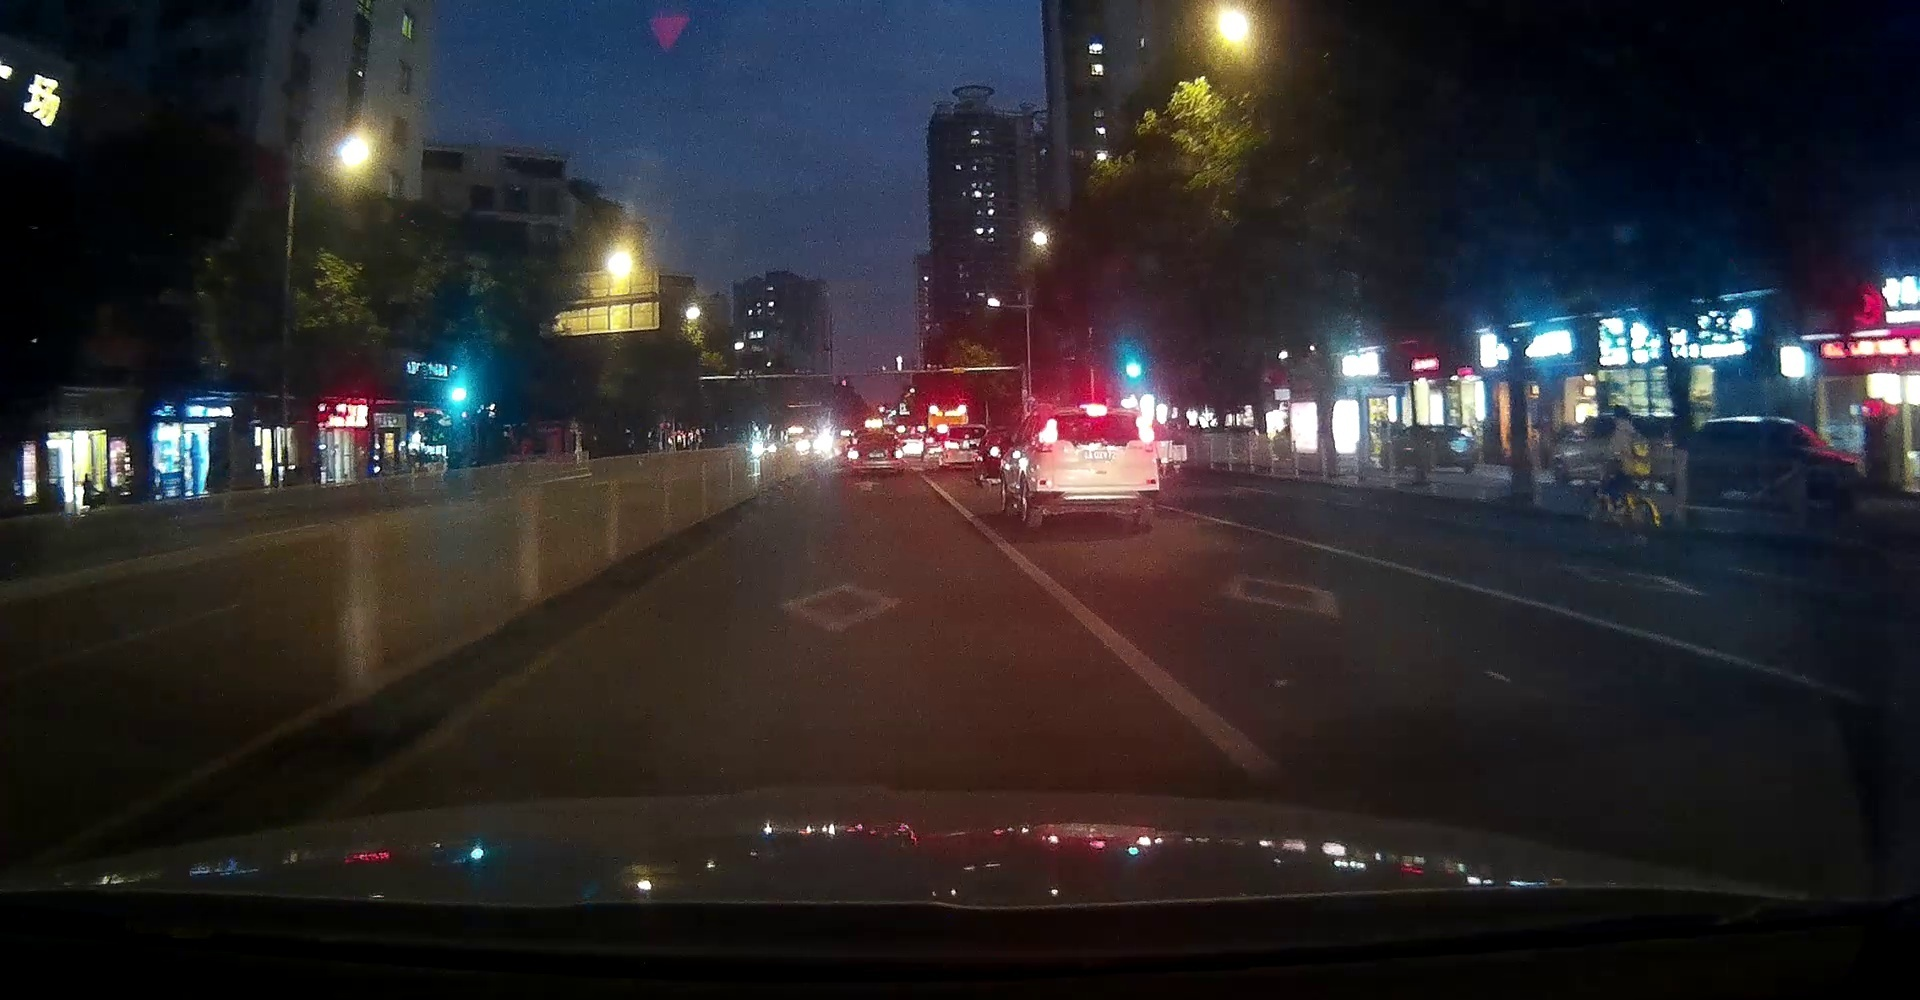L_light: (1036, 418, 1053, 452)
R_light: (1139, 418, 1156, 451)
T_light: (1086, 406, 1107, 414)
night-brake: (1031, 404, 1161, 525)
